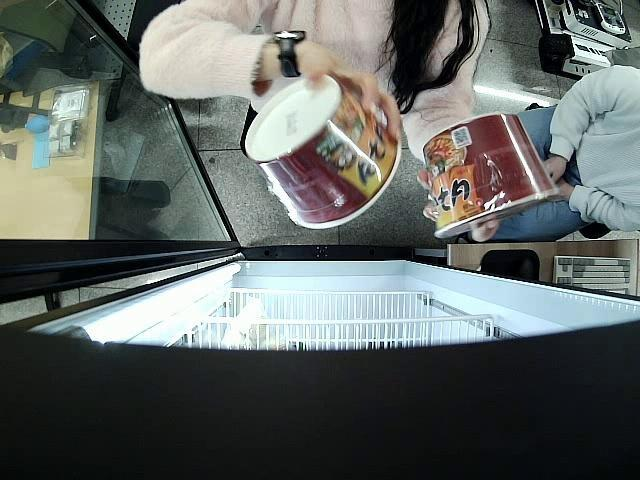05_nuguri_L: (243, 72, 402, 228), (424, 110, 561, 241)
